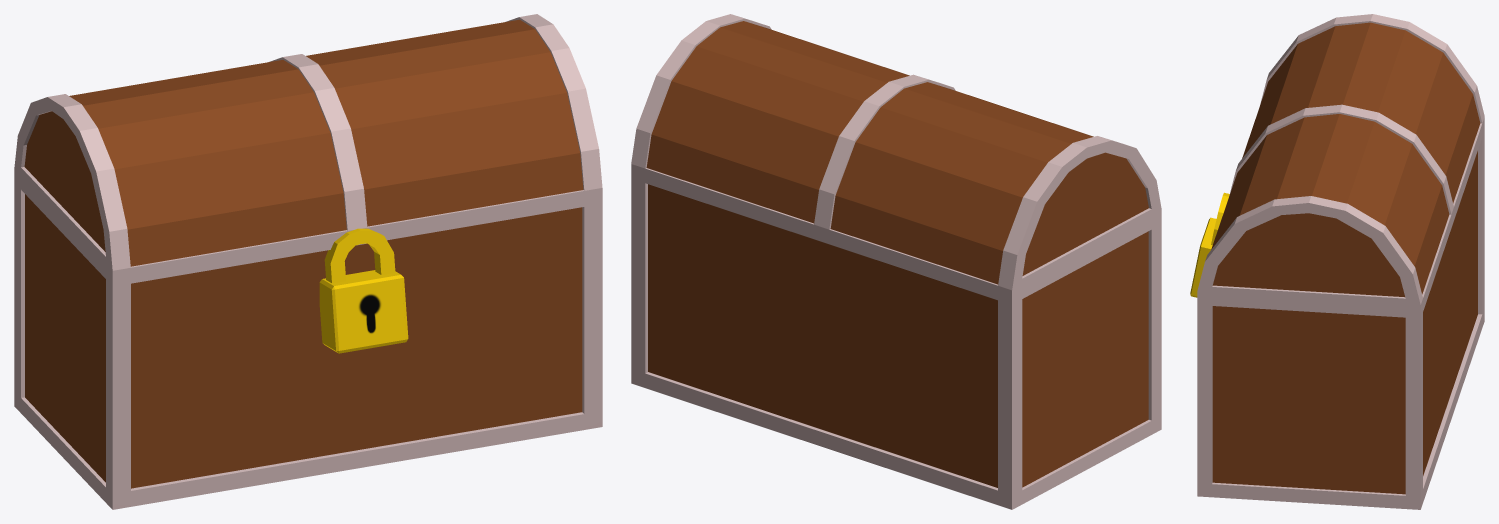
File: level4chest.fbx
3 renders of one model, left to right at view 1: azimuth 30°, elevation 25°; view 2: azimuth 150°, elevation 25°; view 3: azimuth 270°, elevation 25°, orthographic. The views are drawn at different scales.
Parts seen in each view (by area): view 1: Chest, Lock; view 2: Chest; view 3: Chest, Lock.
Part boxes in pixels (x1=…): Chest: x1=14, y1=14, x2=602, y2=509; Lock: x1=319, y1=228, x2=408, y2=353; Chest: x1=631, y1=14, x2=1161, y2=509; Chest: x1=1197, y1=14, x2=1484, y2=509; Lock: x1=1190, y1=192, x2=1229, y2=297.
Size of the model in its own units: 2.65 by 1.83 by 1.63.
1 material, 1 textured.
